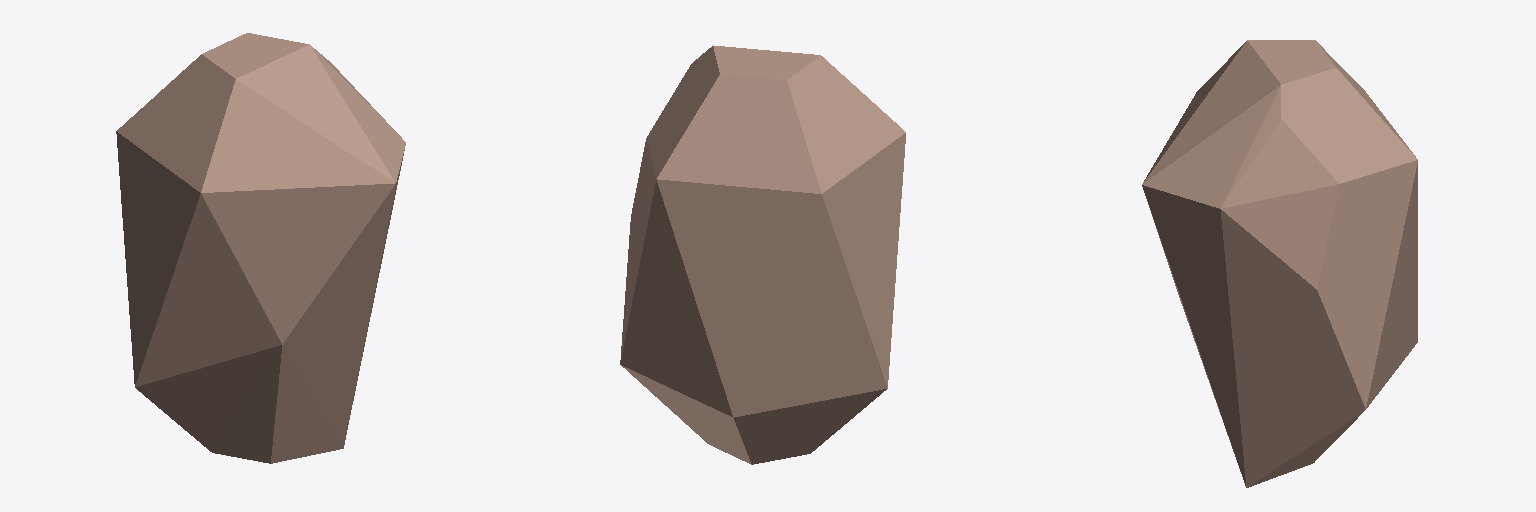
Rendered from stone2A(F38).obj.
The picture shows the model from 3 angles: view 1: azimuth 30°, elevation 25°; view 2: azimuth 150°, elevation 25°; view 3: azimuth 270°, elevation 25°; orthographic projection.
Visible parts, largest first — view 1: Icosphere; view 2: Icosphere; view 3: Icosphere.
Part boxes in pixels (bbox=[...]): Icosphere: bbox=[116, 33, 405, 463]; Icosphere: bbox=[620, 45, 905, 464]; Icosphere: bbox=[1142, 40, 1417, 487].
Bounding box in the file's own units: 1.73 × 2.71 × 1.72.